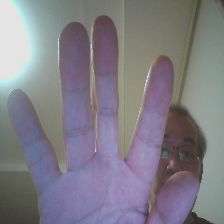hand: (11, 14, 199, 222)
